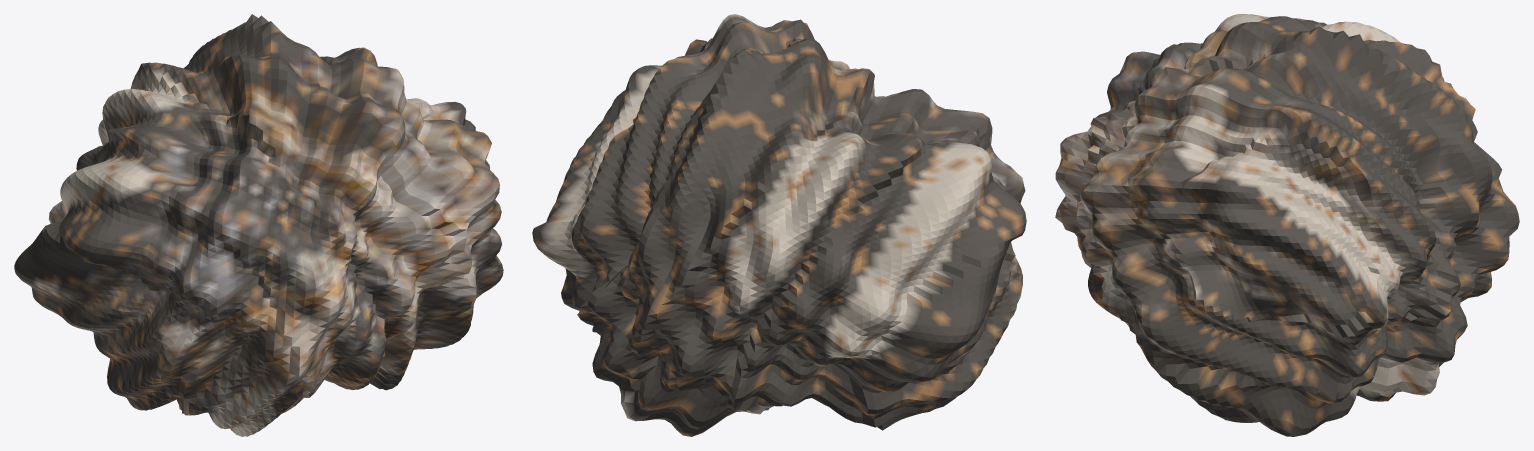
File: motil-stone-3d.glb
3 views of the same model, side by side, from view 1: azimuth 30°, elevation 25°; view 2: azimuth 150°, elevation 25°; view 3: azimuth 270°, elevation 25° (orthographic). The views are drawn at different scales.
Visible parts, largest first — view 1: world; view 2: world; view 3: world.
Boxes of the visible parts, bbox=[...] form: world: bbox=[14, 14, 503, 436]; world: bbox=[532, 14, 1026, 436]; world: bbox=[1055, 14, 1519, 436].
Size of the model in its own units: 2.99 by 2.44 by 2.79.
